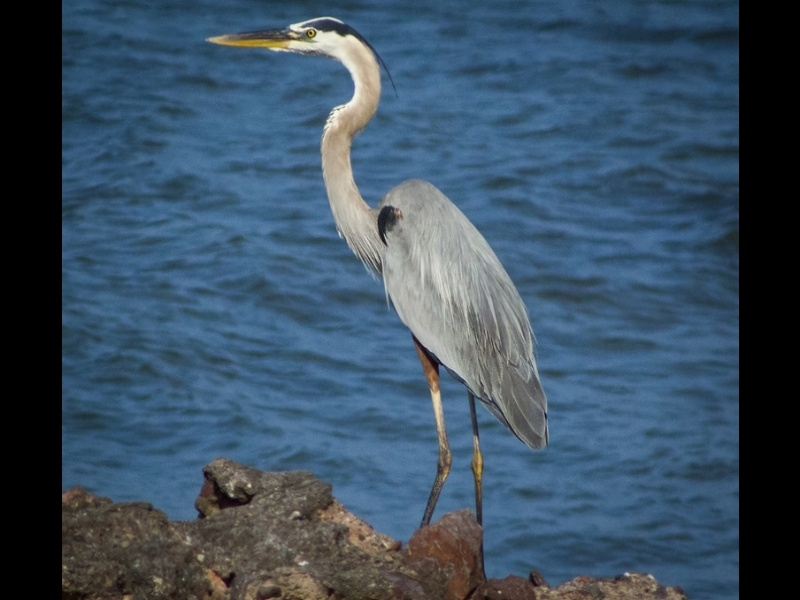heron: (200, 16, 554, 542)
